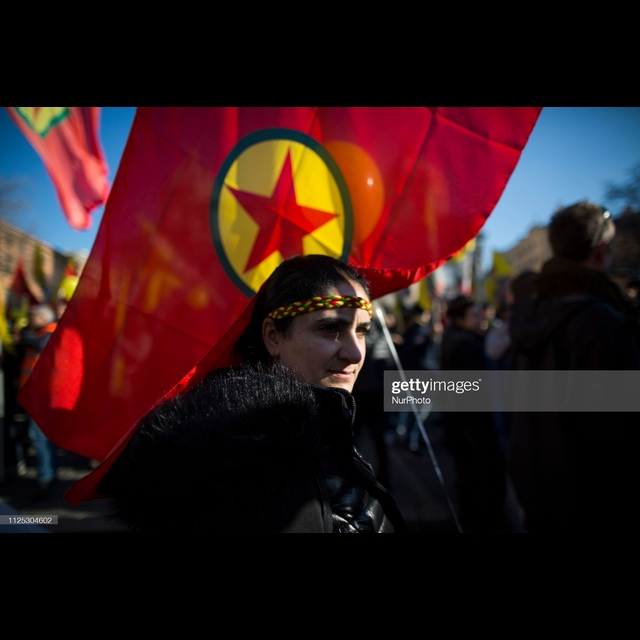PKK: (196, 122, 383, 265)
